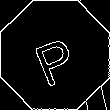P_N: (28, 24, 82, 86)
